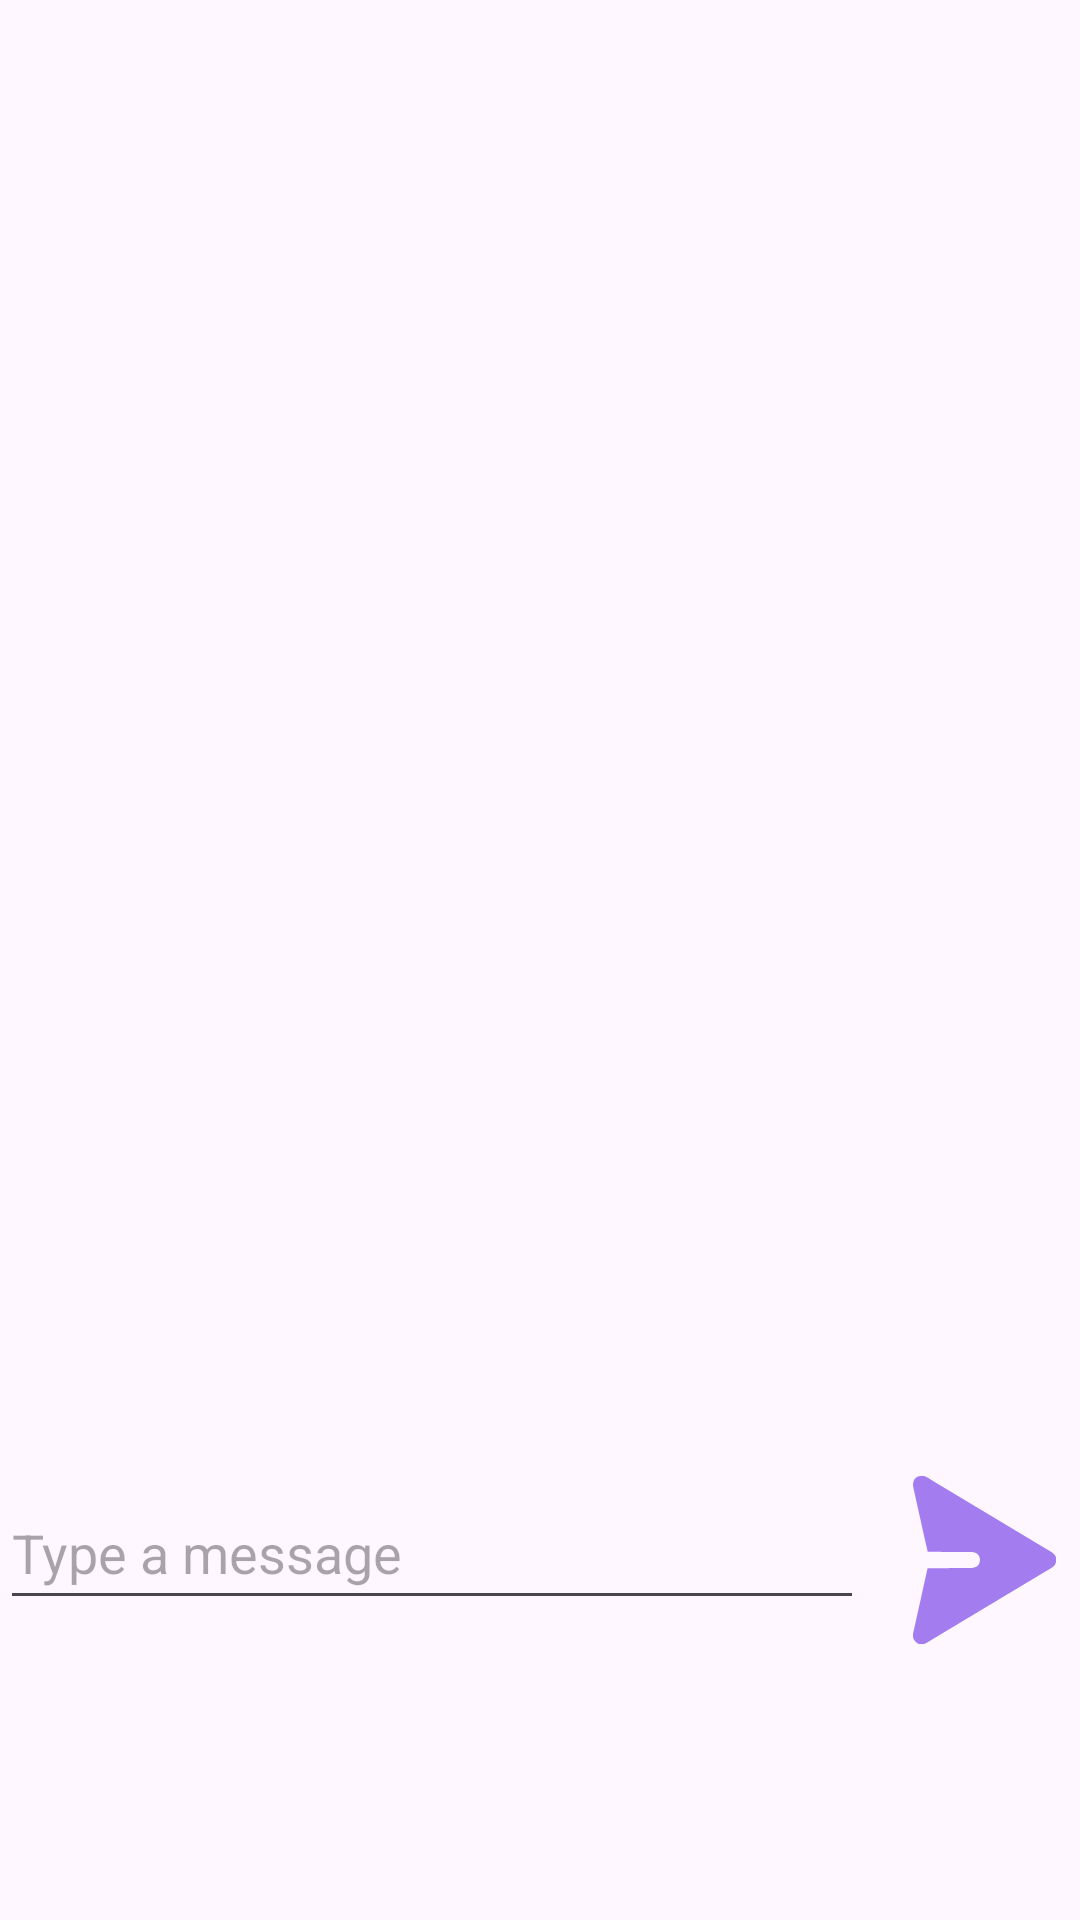

Where icons sit on this 1080×1920 app screen, as box(x1, y1, x2, y2):
Send message: box(913, 1476, 1056, 1644)
